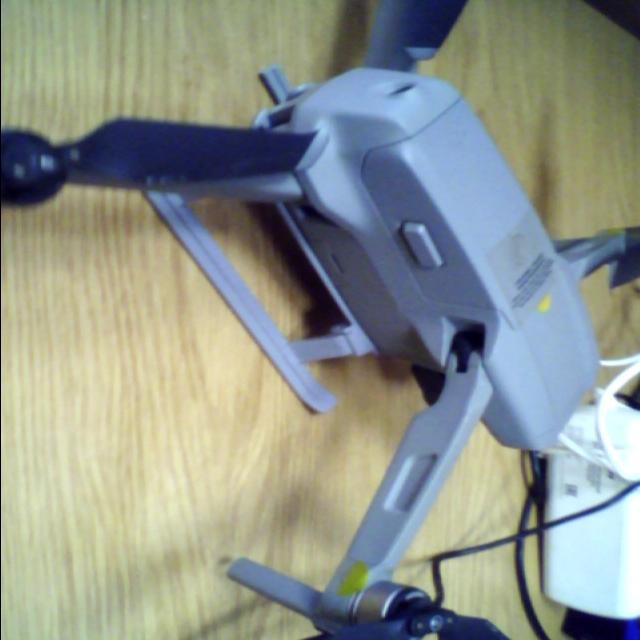drone: (52, 0, 614, 640)
